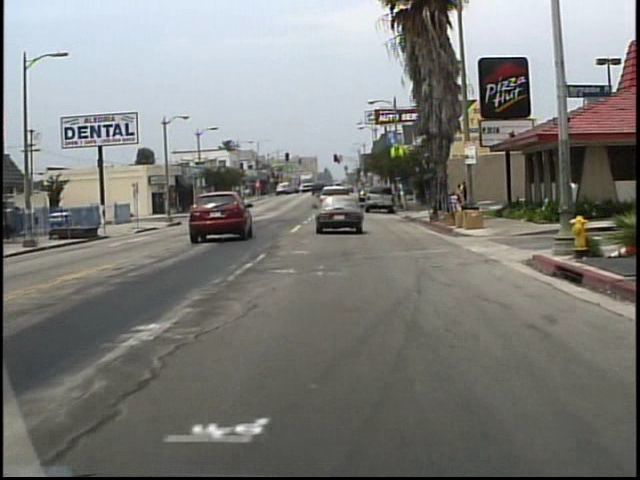person: (462, 182, 471, 210), (456, 184, 464, 208)
